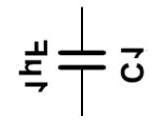Capacitor: (54, 35, 105, 78)
